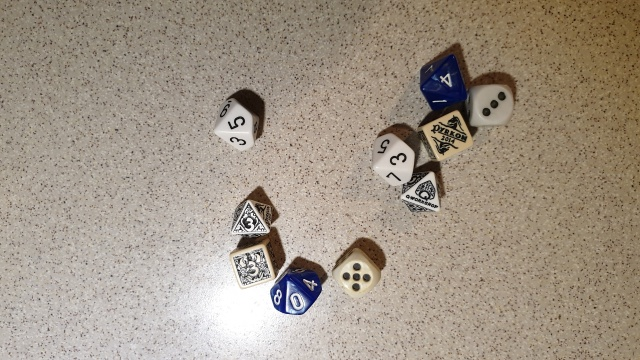d10-10: (264, 263, 326, 323)
d10-3: (370, 129, 414, 192)
d10-4: (417, 48, 470, 114)
d10-5: (204, 92, 267, 157)
d6-3: (465, 81, 517, 131)
d6-5: (331, 244, 382, 300)
d6p-1: (419, 108, 474, 161)
d6p-3: (226, 238, 276, 285)
d8p-3: (224, 194, 278, 241)
d8p-8: (397, 167, 449, 225)
